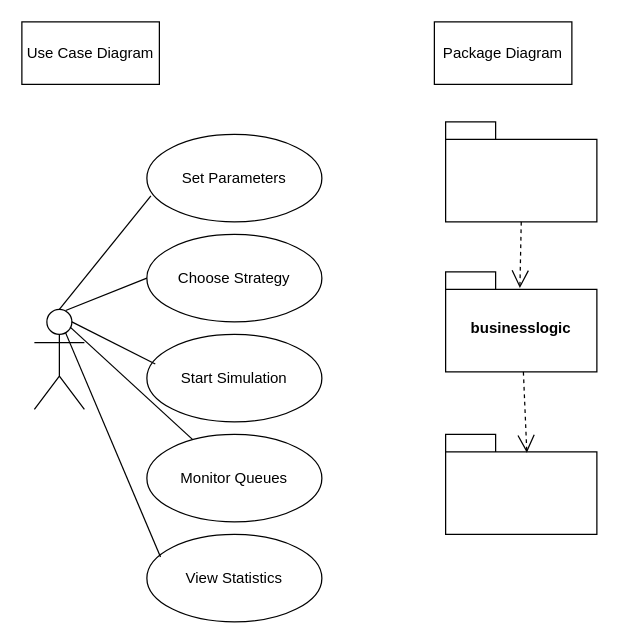
Some shapes in this 619 by 644 pixel diagram are drawn without their labels. Each missing label, with the centre of its shape:
"gui" goes at (520,171).
"model" goes at (520,483).
"User" goes at (58,358).
